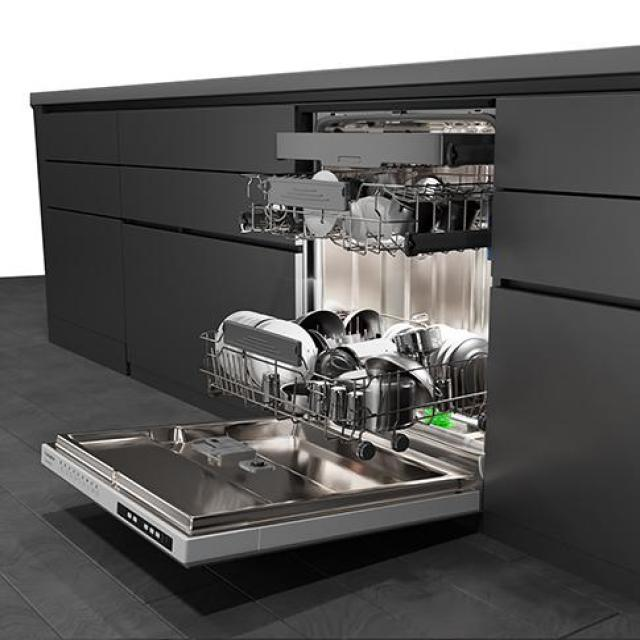dishwasher: (277, 54, 494, 579)
